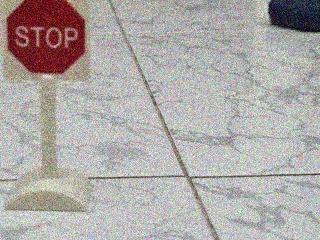stop: (0, 0, 93, 88)
